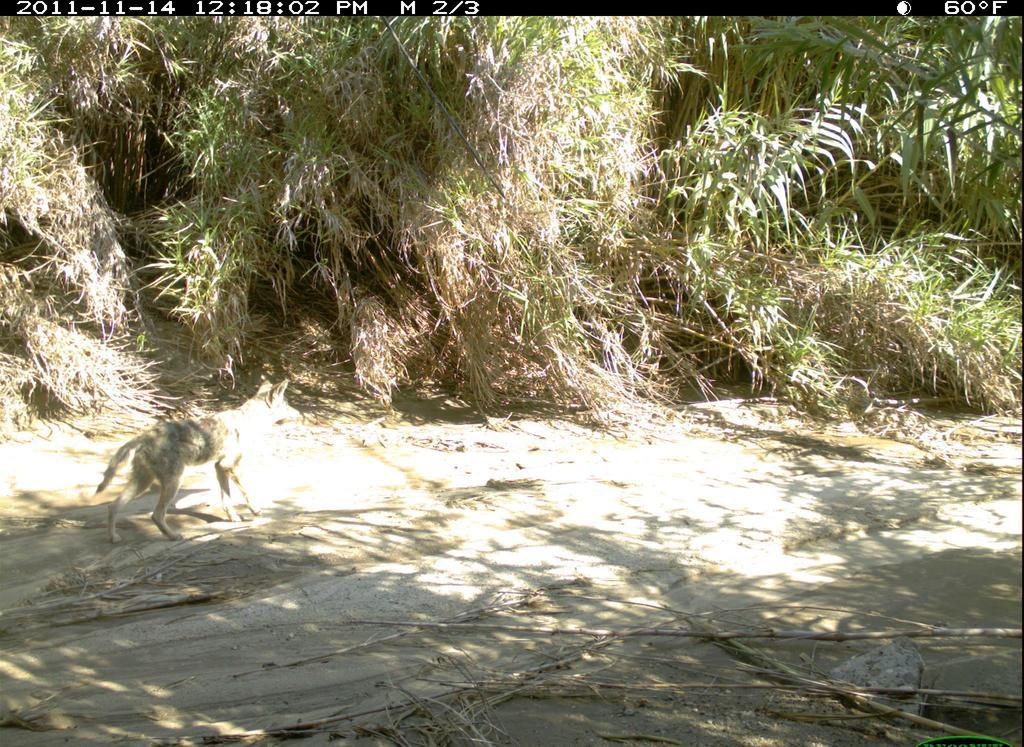coyote: (81, 365, 312, 559)
